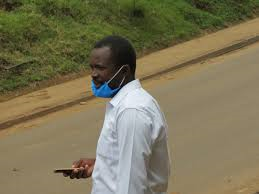mask_weared_incorrect: (85, 48, 131, 101)
